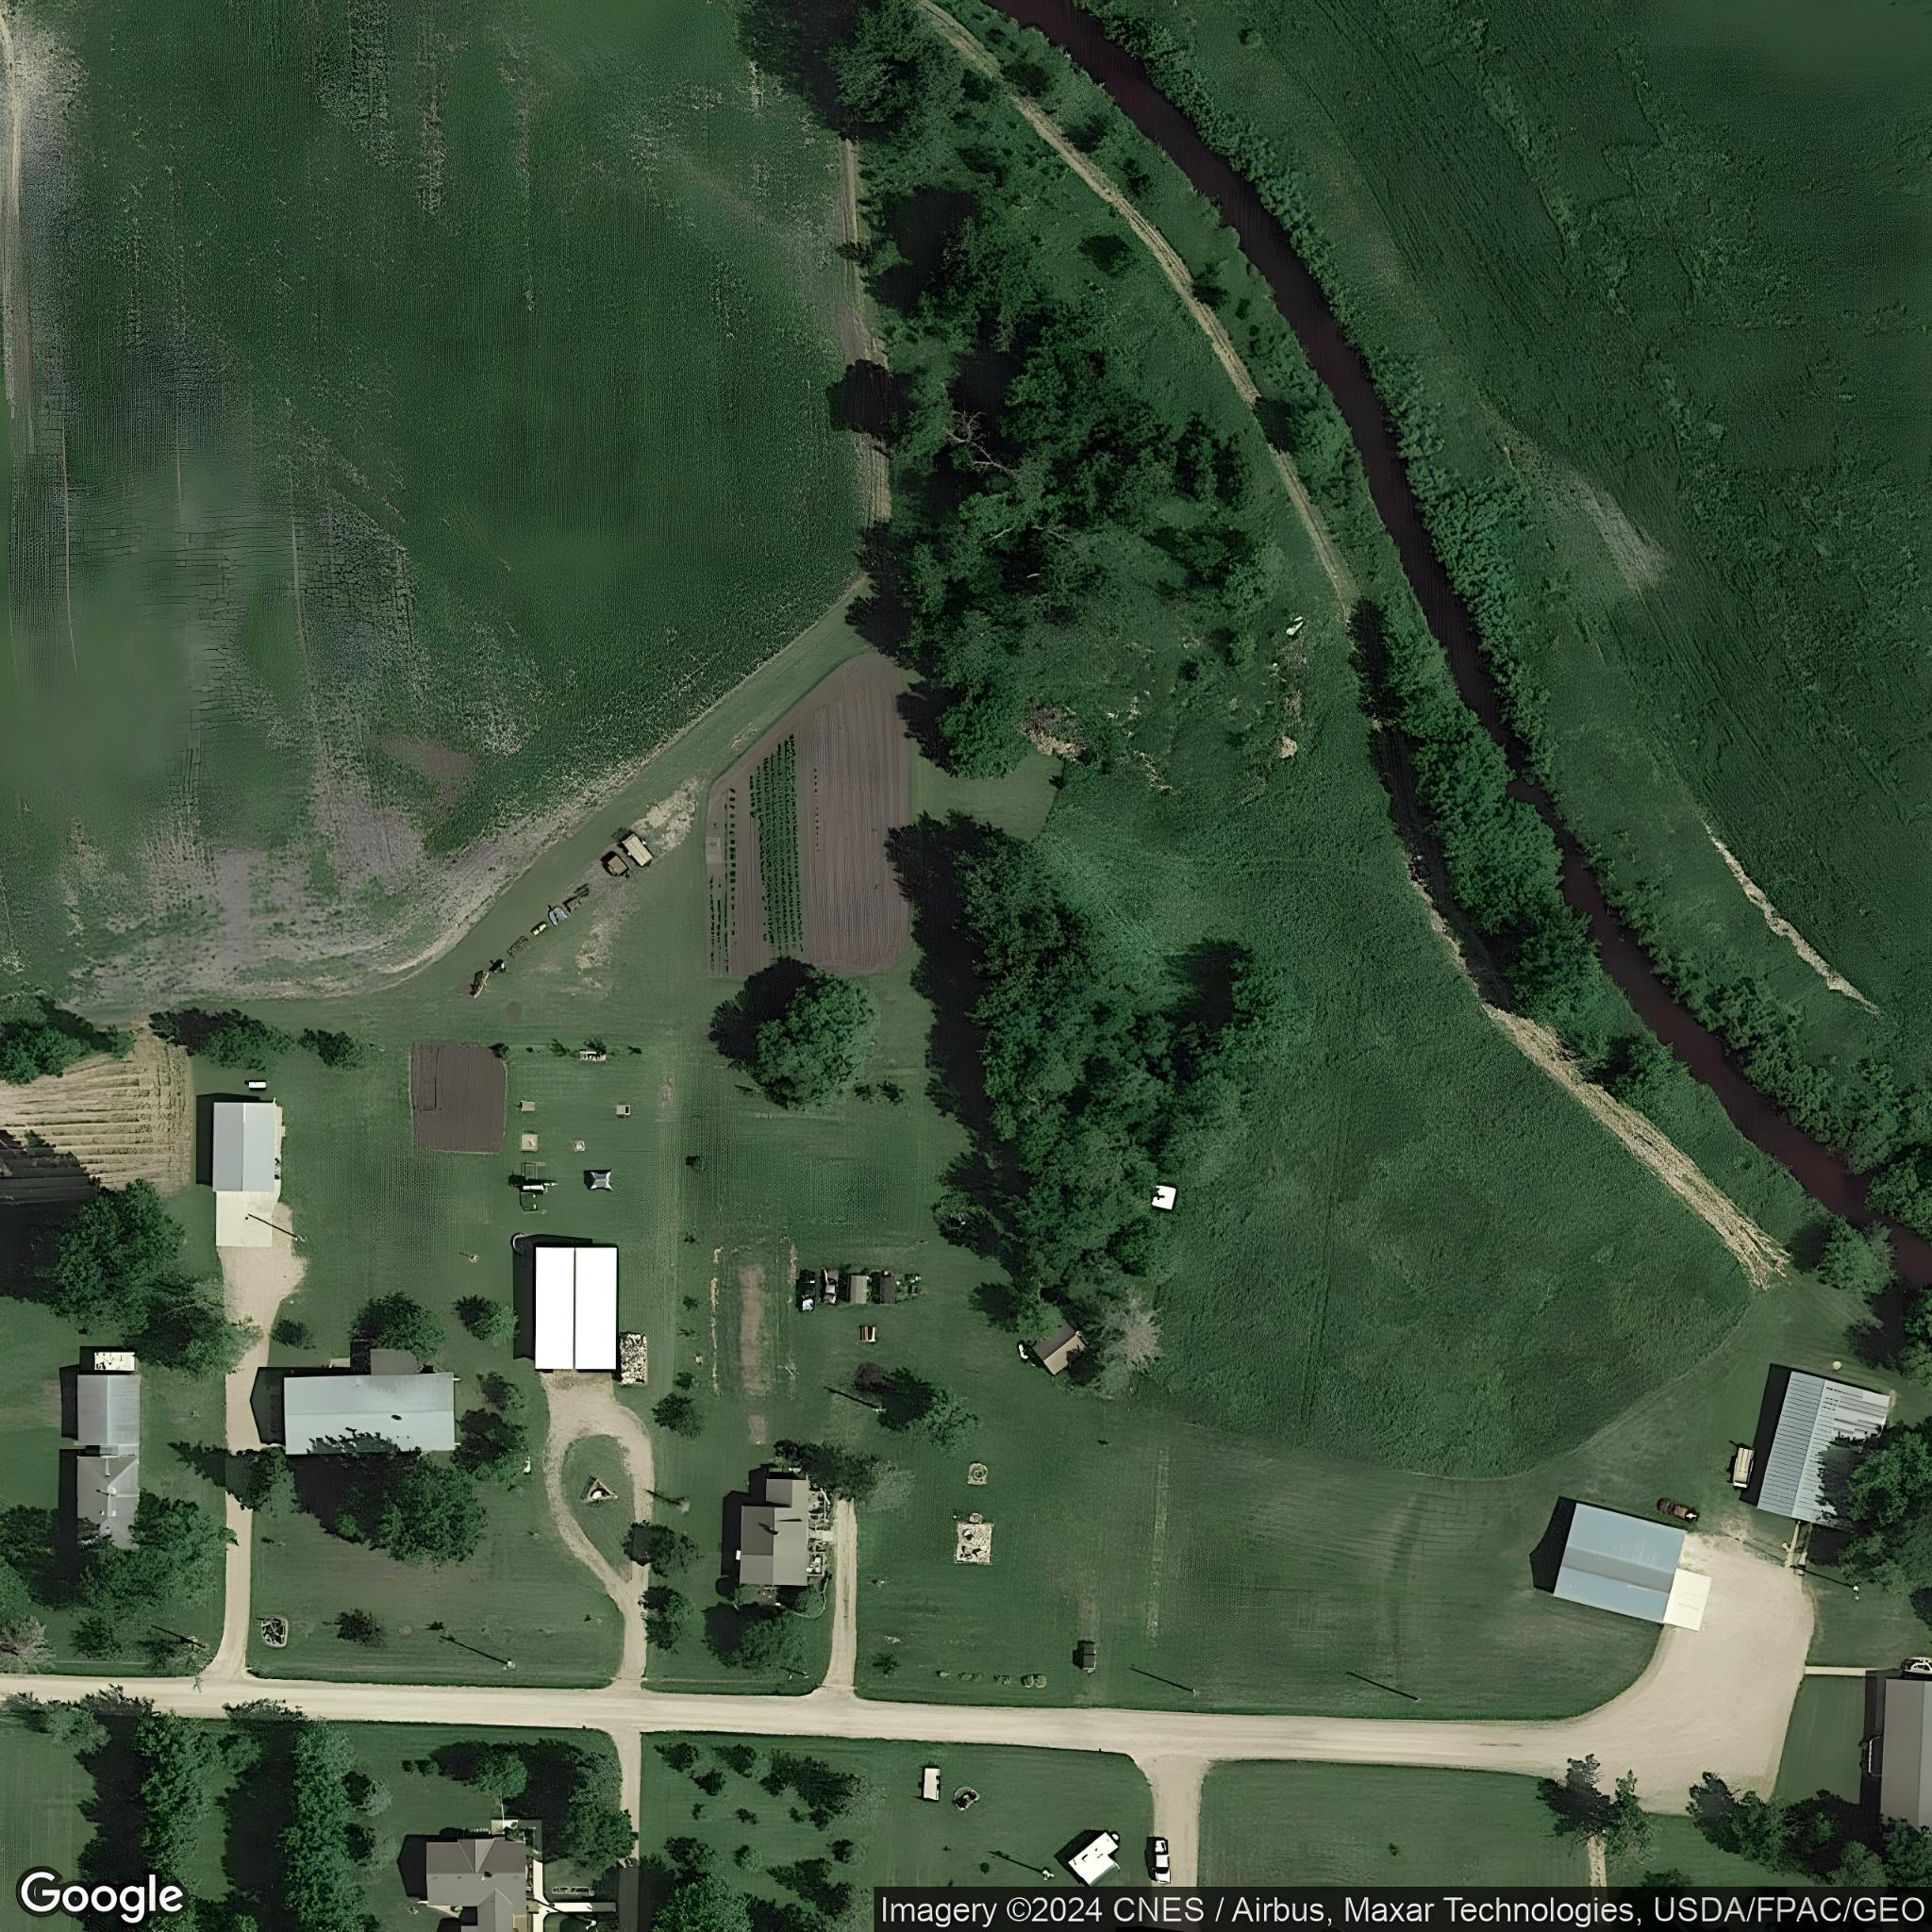Garage: (1757, 1373, 1891, 1537), (1553, 1502, 1688, 1624), (285, 1375, 455, 1454), (533, 1247, 621, 1371), (211, 1102, 274, 1194)
House: (74, 1375, 142, 1552), (426, 1840, 529, 1932), (1882, 1681, 1932, 1831), (740, 1479, 809, 1585)
Propane: (1014, 1341, 1030, 1362), (520, 1182, 545, 1191), (244, 1079, 267, 1088)
